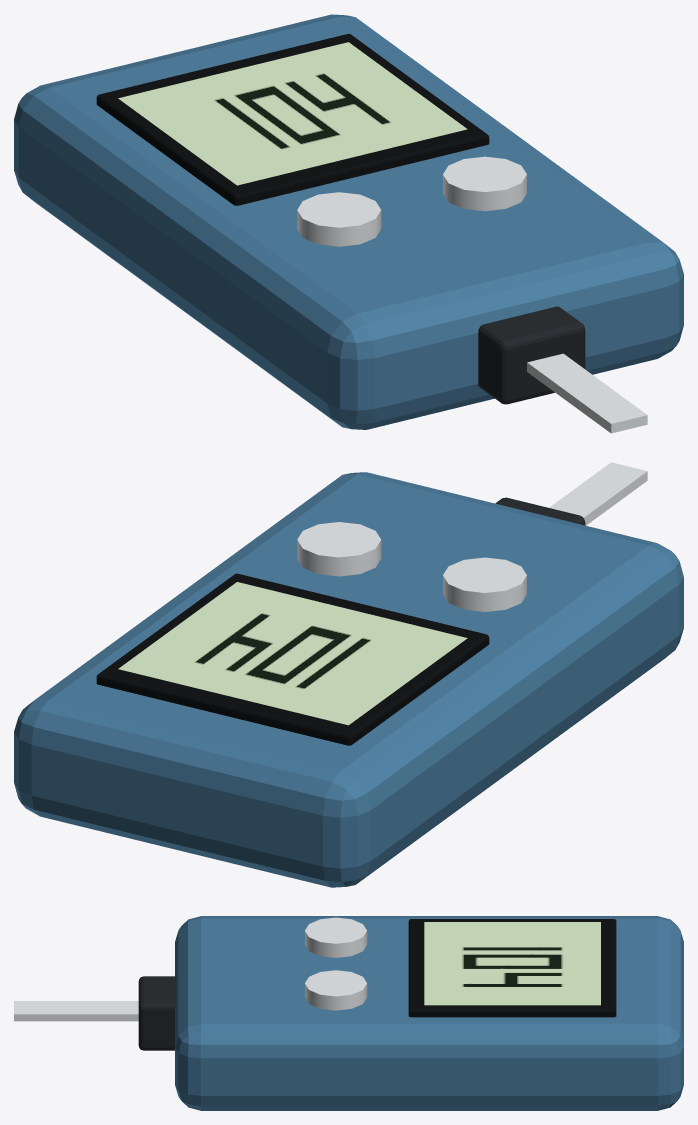
The model's file is Glucometer.glb.
3 renders of one model, top to bottom at view 1: azimuth 30°, elevation 25°; view 2: azimuth 150°, elevation 25°; view 3: azimuth 270°, elevation 25°, orthographic. The views are drawn at different scales.
Parts seen in each view (by area): view 1: Body.006, Screen.002, ScreenBezel, StripPort, TestStrip, Button, Button.001; view 2: Body.006, Screen.002, ScreenBezel, Button.001, Button, TestStrip, StripPort; view 3: Body.006, Screen.002, ScreenBezel, StripPort, TestStrip, Button.001, Button.
Part boxes in pixels (x1,y1,x2,y2): Body.006: (14,14,683,429); Screen.002: (118,42,467,185); ScreenBezel: (96,34,489,205); StripPort: (478,306,585,404); TestStrip: (527,353,647,433); Button: (297,192,381,246); Button.001: (443,156,526,211); Body.006: (14,472,683,887); Screen.002: (118,582,467,725); ScreenBezel: (96,573,489,745); Button.001: (297,522,381,576); Button: (443,557,526,611); TestStrip: (549,462,647,525); StripPort: (495,497,585,525); Body.006: (175,916,683,1110); Screen.002: (424,922,600,1005); ScreenBezel: (408,919,616,1017); StripPort: (138,976,176,1050); TestStrip: (14,1001,138,1021); Button.001: (305,970,367,1010); Button: (305,917,367,957).
Size of the model in its own units: 0.058 by 0.021 by 0.129.
5 materials, 1 textured.
